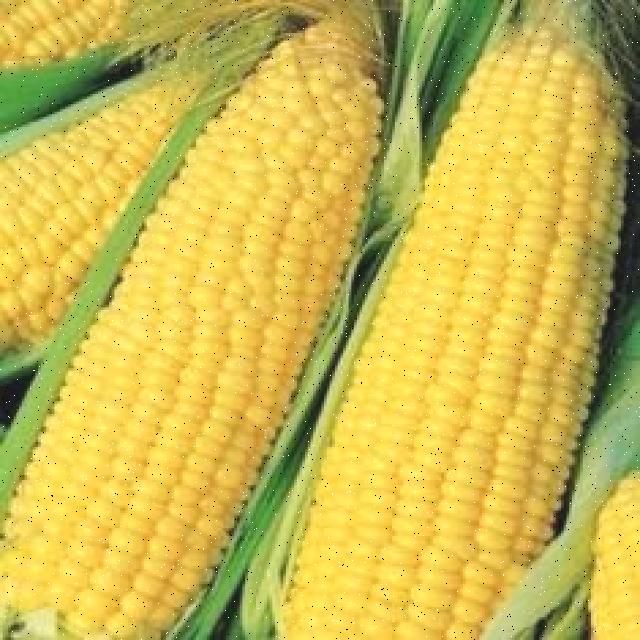Corn: (7, 0, 432, 640), (250, 3, 640, 632)
